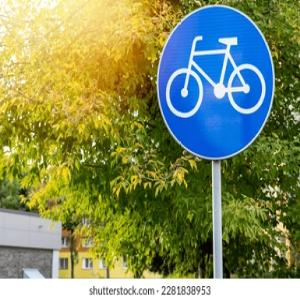CYCLES CROSSING: (145, 3, 279, 171)
